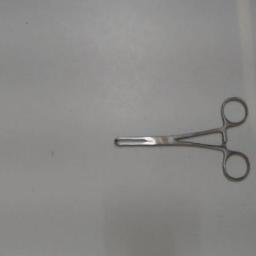Allis Tissue Forceps: (108, 92, 252, 188)
